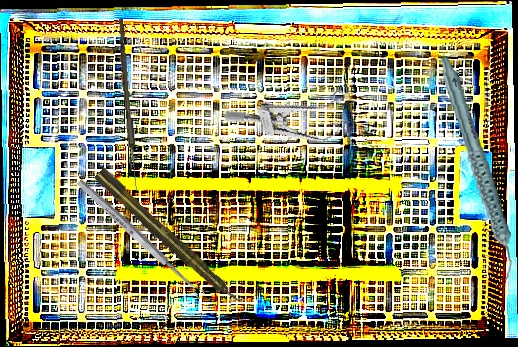Handpiece: (92, 165, 246, 311), (439, 52, 514, 285)
Speculum: (221, 78, 364, 166)
Surgical Spoon: (75, 177, 206, 301), (115, 19, 141, 191)
